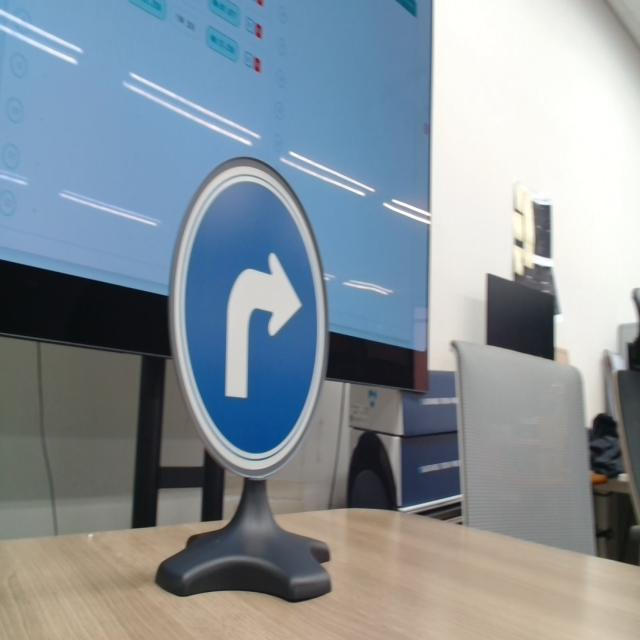right_dierection: (157, 123, 366, 539)
